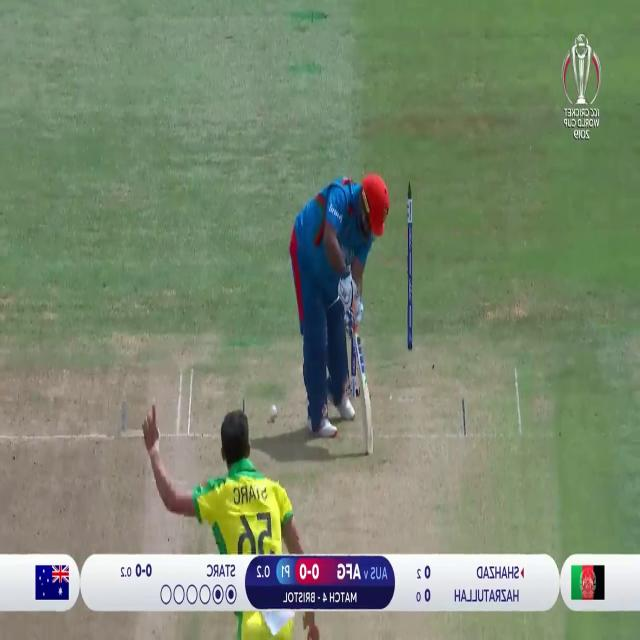ball: (266, 400, 280, 425)
